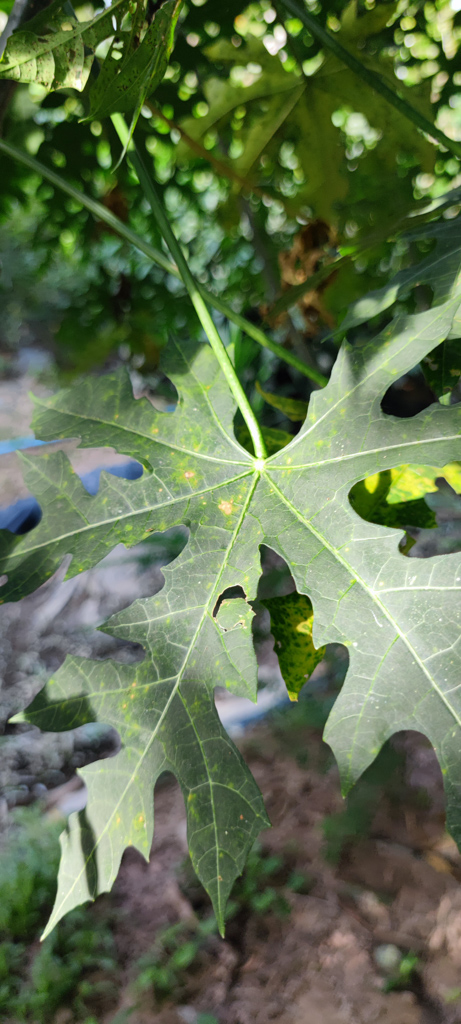Alternaria brassicicola: (71, 381, 340, 567), (95, 670, 243, 885), (348, 451, 456, 518), (272, 599, 338, 701)
